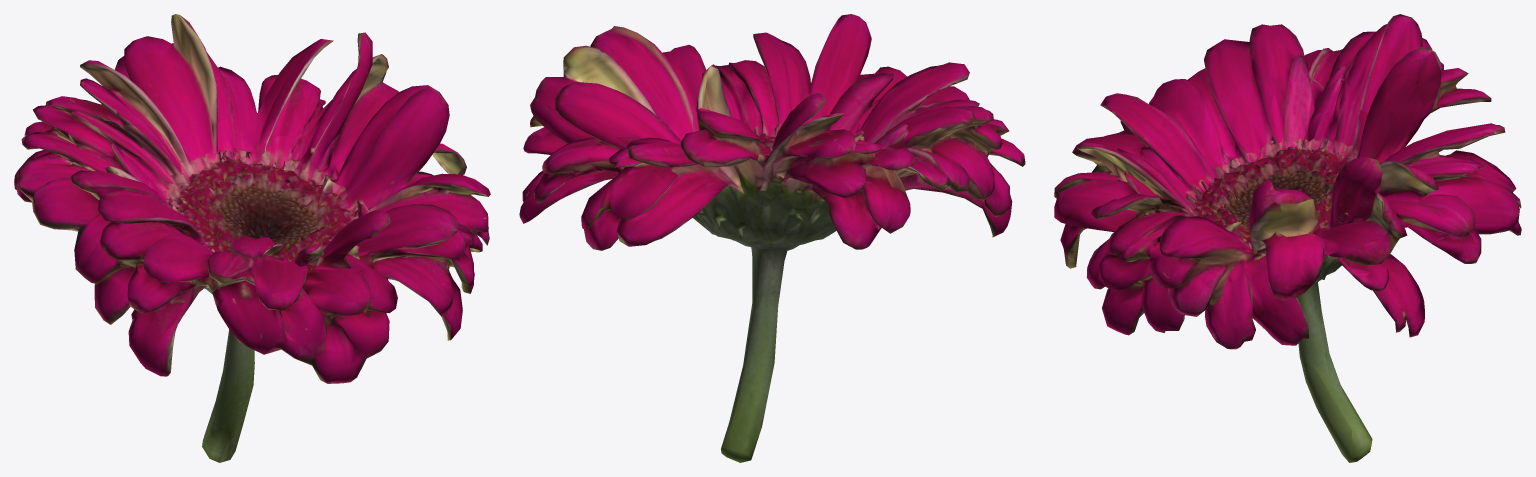
Rendered from purple_flower-transformed.glb.
3 renders of one model, left to right at view 1: azimuth 30°, elevation 25°; view 2: azimuth 150°, elevation 25°; view 3: azimuth 270°, elevation 25°, orthographic. The views are drawn at different scales.
Visible parts, largest first — view 1: purple_flower; view 2: purple_flower; view 3: purple_flower.
Part boxes in pixels (x1,y1,x2,y2): purple_flower: (14, 14, 490, 462); purple_flower: (519, 14, 1025, 462); purple_flower: (1054, 14, 1521, 462).
Bounding box in the file's own units: 88.25 × 87.01 × 89.81.
1 material, 1 textured.
